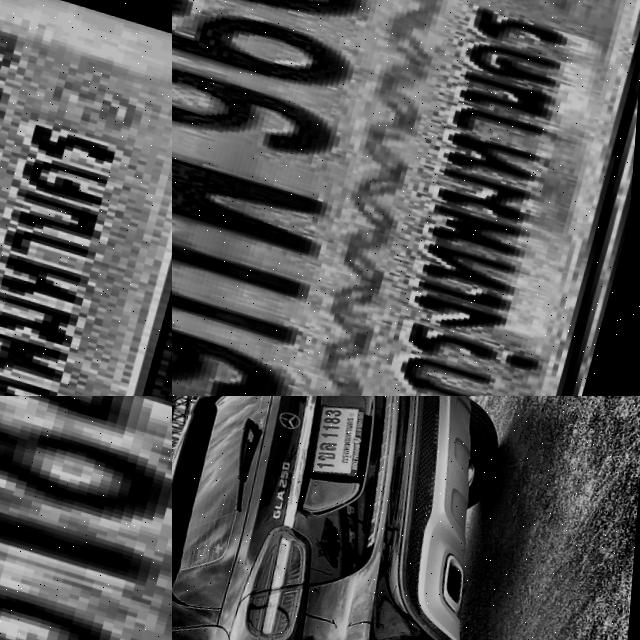license-plate: (172, 0, 640, 396), (0, 0, 172, 396), (0, 396, 172, 640), (298, 396, 378, 484)
